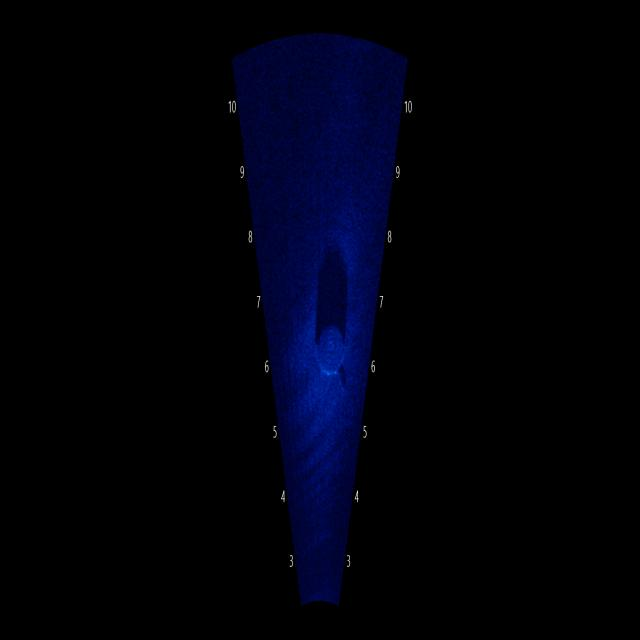circle: (311, 299, 354, 400)
